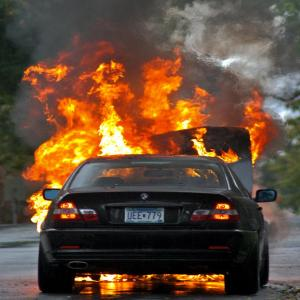Vehicle-registration-plate: (124, 208, 166, 225)
